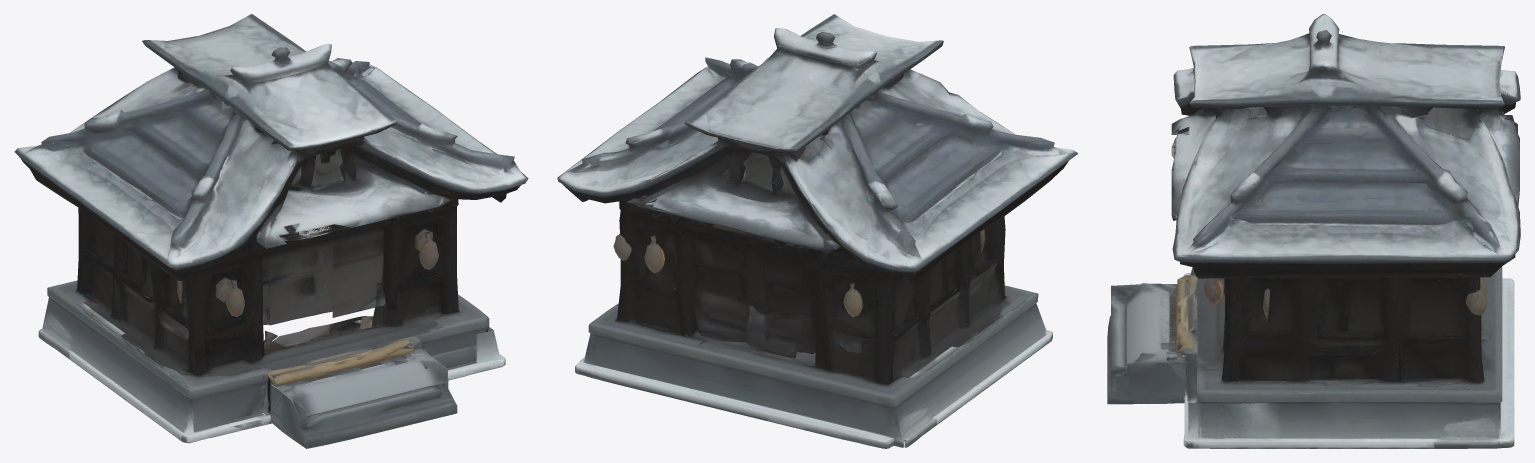
Rendered from rear-gatehouse.opt.glb.
3 renders of one model, left to right at view 1: azimuth 30°, elevation 25°; view 2: azimuth 150°, elevation 25°; view 3: azimuth 270°, elevation 25°, orthographic. The views are drawn at different scales.
Bounding box in the file's own units: 1.91 × 1.57 × 1.76.
1 material, 1 textured.
